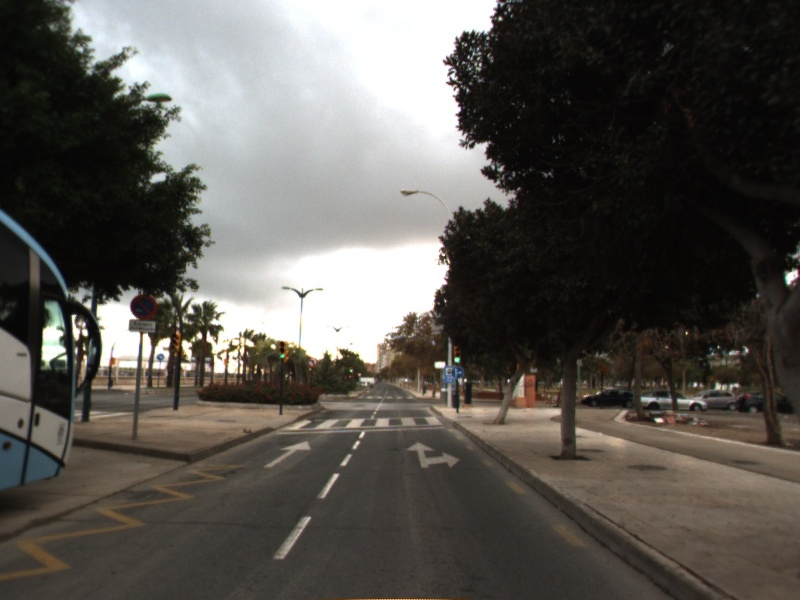STRAIGHT: (262, 439, 313, 469)
STRAIGHT_RIGHT: (404, 440, 463, 471)
